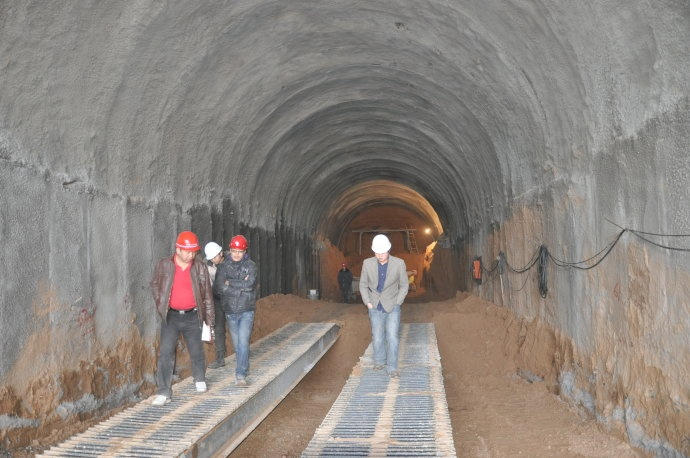red: (173, 230, 201, 264), (228, 234, 247, 263)
white: (371, 234, 391, 264), (204, 242, 222, 266)
